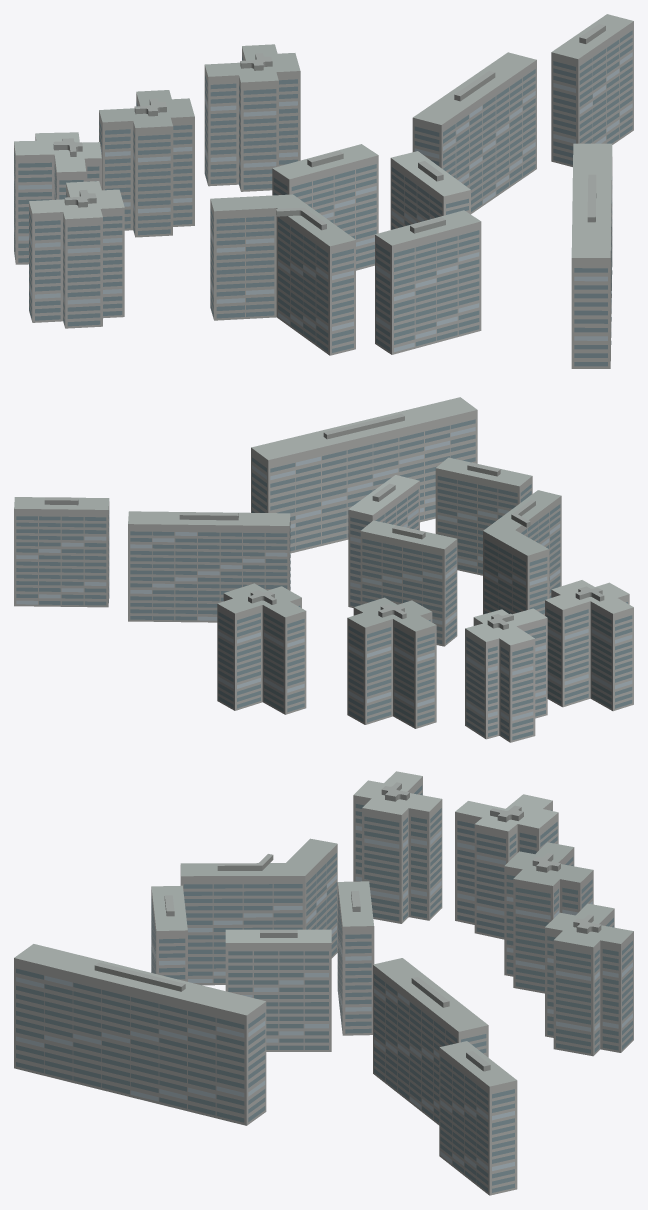
The model's file is apt-a13307202.glb.
The picture shows the model from 3 angles, top to bottom: view 1: azimuth 30°, elevation 25°; view 2: azimuth 150°, elevation 25°; view 3: azimuth 270°, elevation 25°; orthographic projection. The views are drawn at different scales.
Visible parts, largest first — view 1: apt-a13307202; view 2: apt-a13307202; view 3: apt-a13307202.
Part boxes in pixels (bbox=[...]): apt-a13307202: bbox=[14, 14, 633, 368]; apt-a13307202: bbox=[14, 397, 633, 742]; apt-a13307202: bbox=[14, 771, 633, 1195].
Size of the model in its own units: 243 by 41.43 by 202.
